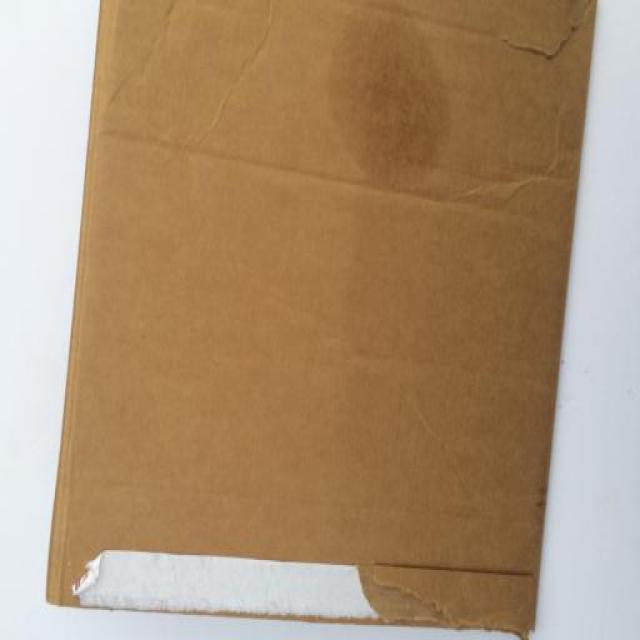cardboard: (37, 1, 604, 640)
